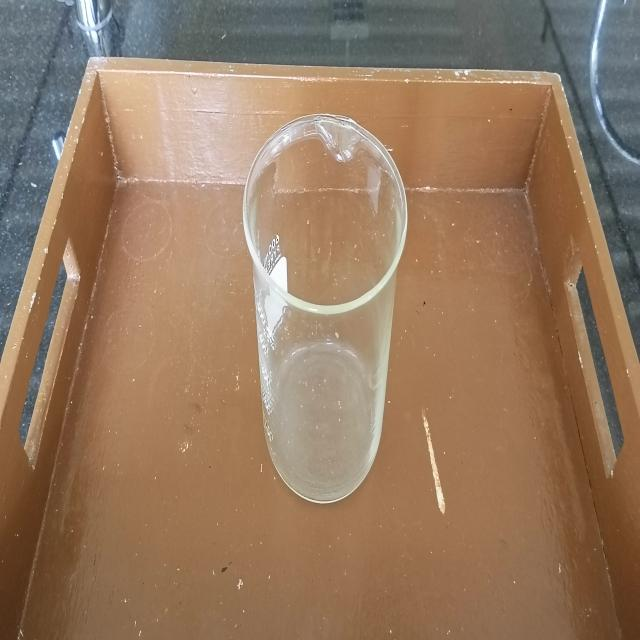beaker: (238, 105, 411, 511)
